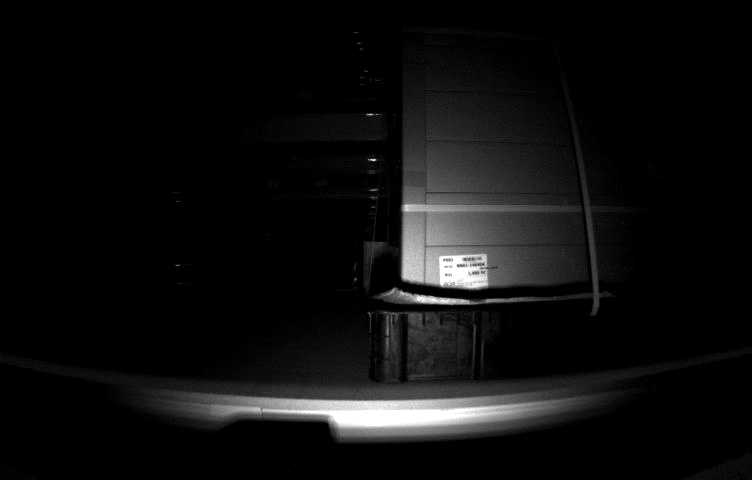True Barcode: (438, 256, 487, 291)
